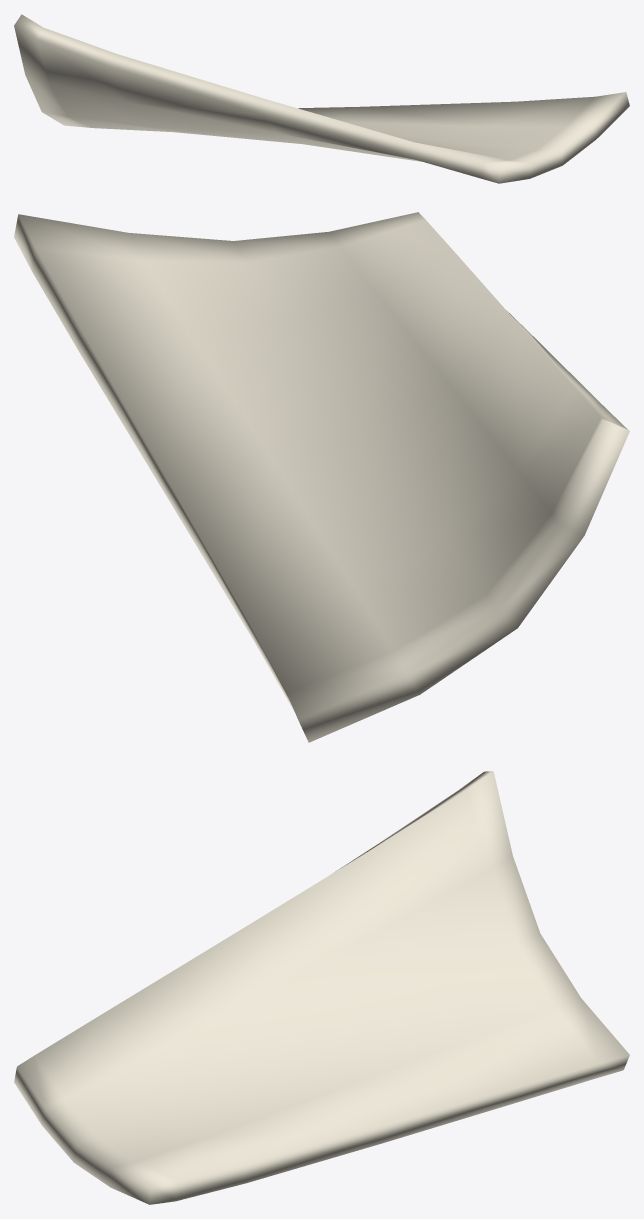
3 views of the same model, one above another, from view 1: azimuth 30°, elevation 25°; view 2: azimuth 150°, elevation 25°; view 3: azimuth 270°, elevation 25° (orthographic). The views are drawn at different scales.
Parts seen in each view (by area): view 1: ZA_9d82d78b1d9f8fd9; view 2: ZA_9d82d78b1d9f8fd9; view 3: ZA_9d82d78b1d9f8fd9.
Part boxes in pixels (x1,y1,x2,y2): ZA_9d82d78b1d9f8fd9: [14, 14, 629, 183]; ZA_9d82d78b1d9f8fd9: [14, 212, 629, 742]; ZA_9d82d78b1d9f8fd9: [14, 771, 629, 1204].
Bounding box in the file's own units: 0.017 × 0.00593 × 0.0147.
